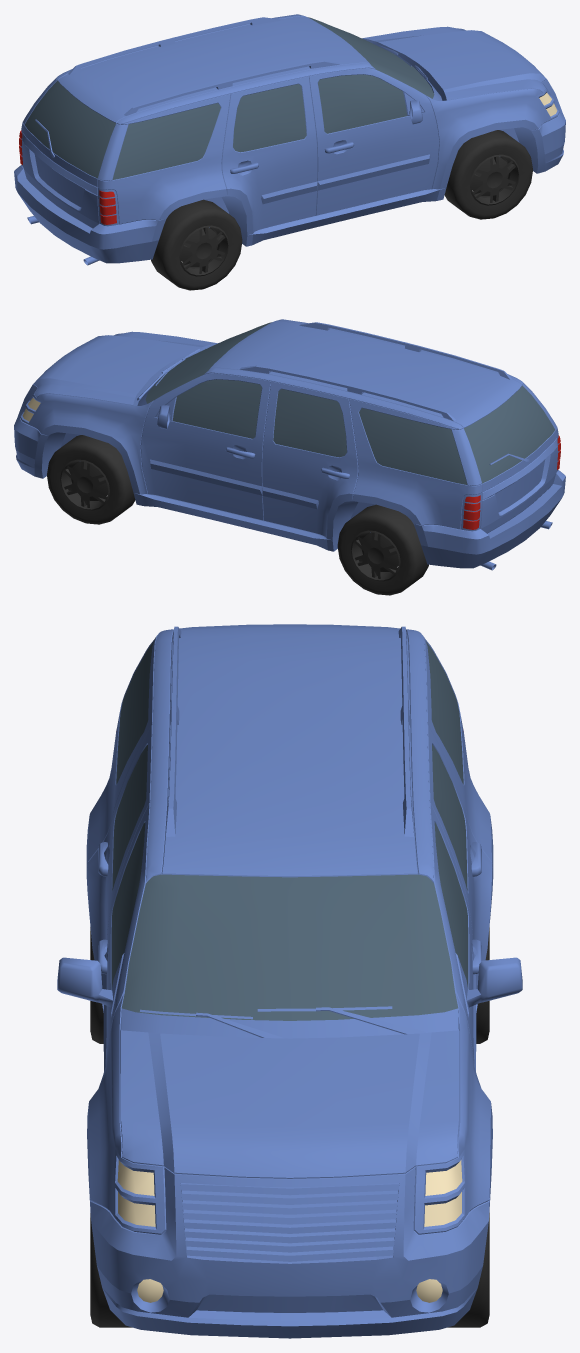
File: traffic-suv.glb
3 views of the same model, one above another, from view 1: azimuth 30°, elevation 25°; view 2: azimuth 150°, elevation 25°; view 3: azimuth 270°, elevation 25° (orthographic). The views are drawn at different scales.
Visible parts, largest first — view 1: SUV Body_Body_0, SUV Body_Glass_0, Wheel_E003_Wheel_0.001, Wheel_E002_Wheel_0.001, SUV Body_Optics_0; view 2: SUV Body_Body_0, SUV Body_Glass_0, Wheel_E001_Wheel_0.001, Wheel_E_Wheel_0.001, SUV Body_Optics_0; view 3: SUV Body_Body_0, SUV Body_Glass_0, SUV Body_Optics_0, Wheel_E002_Wheel_0.001, Wheel_E_Wheel_0.001.
Boxes of the visible parts, <box> form: SUV Body_Body_0: <box>14,14,565,265</box>; SUV Body_Glass_0: <box>25,17,434,179</box>; Wheel_E003_Wheel_0.001: <box>151,199,242,290</box>; Wheel_E002_Wheel_0.001: <box>444,130,532,219</box>; SUV Body_Optics_0: <box>19,93,557,224</box>; SUV Body_Body_0: <box>14,319,565,570</box>; SUV Body_Glass_0: <box>145,322,554,484</box>; Wheel_E001_Wheel_0.001: <box>337,504,428,595</box>; Wheel_E_Wheel_0.001: <box>47,435,135,524</box>; SUV Body_Optics_0: <box>22,398,560,529</box>; SUV Body_Body_0: <box>57,624,522,1338</box>; SUV Body_Glass_0: <box>111,641,468,1020</box>; SUV Body_Optics_0: <box>116,731,463,1302</box>; Wheel_E002_Wheel_0.001: <box>90,1213,132,1327</box>; Wheel_E_Wheel_0.001: <box>447,1213,489,1327</box>.
Size of the model in its own units: 4.75 by 1.7 by 1.95.
